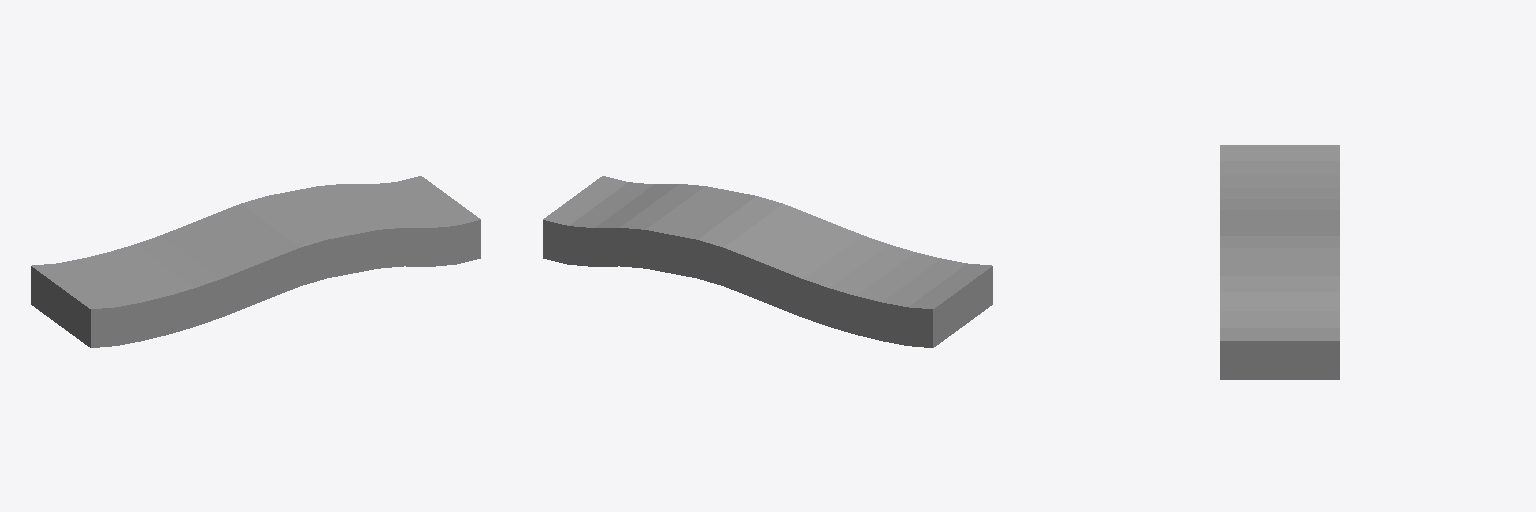
The model's file is rigid_flex_shape.obj.
3 views of the same model, side by side, from view 1: azimuth 30°, elevation 25°; view 2: azimuth 150°, elevation 25°; view 3: azimuth 270°, elevation 25° (orthographic).
Parts seen in each view (by area): view 1: ShapeIndexedFaceSet; view 2: ShapeIndexedFaceSet; view 3: ShapeIndexedFaceSet.
Part boxes in pixels (x1,y1,x2,y2): ShapeIndexedFaceSet: (31,176,480,347); ShapeIndexedFaceSet: (543,176,992,347); ShapeIndexedFaceSet: (1220,145,1339,379).
Size of the model in its own units: 0.1506 by 0.0207 by 0.04.